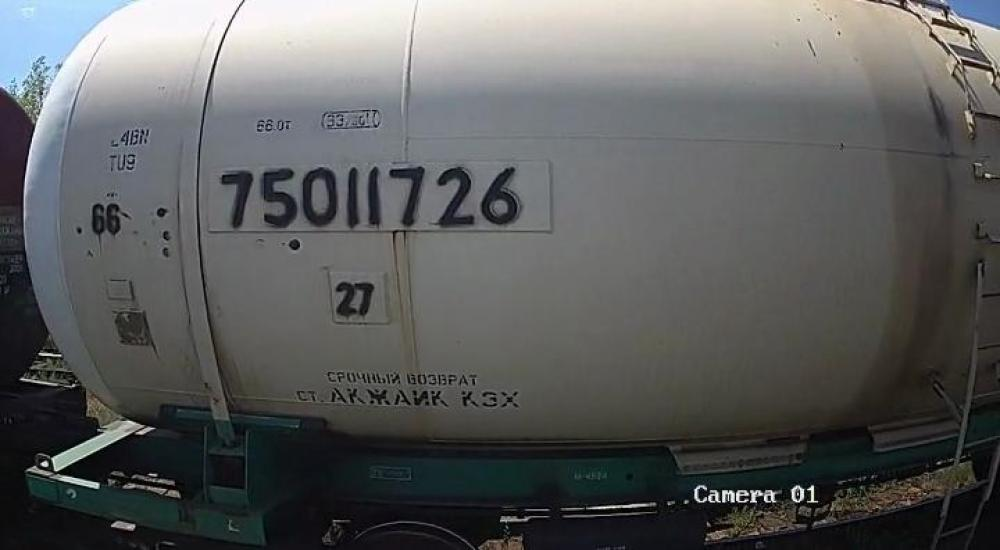Wagon-number: (215, 161, 532, 231)
